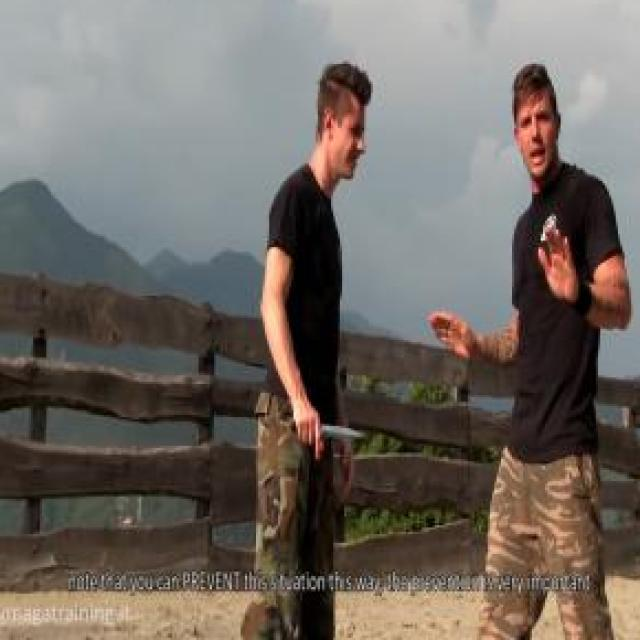knife: (287, 406, 373, 452)
